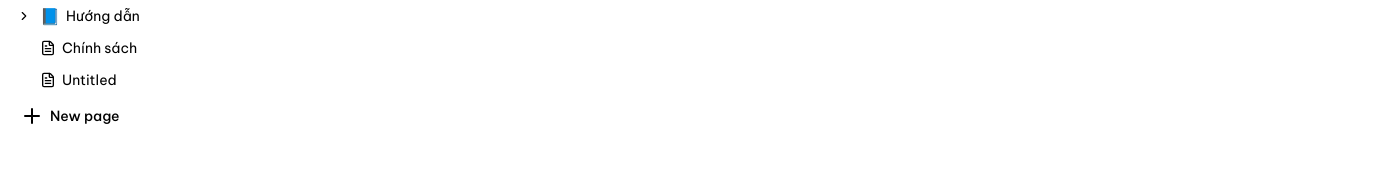
it: PageTree › rolls a refused move back and shows the translated error
The image size is (1390, 173).
Check: the list is shown, box [17,6,140,89]
Type keys "{Alt>}{Shift>}{ArrowUp}{/Shift}{/Alt}"
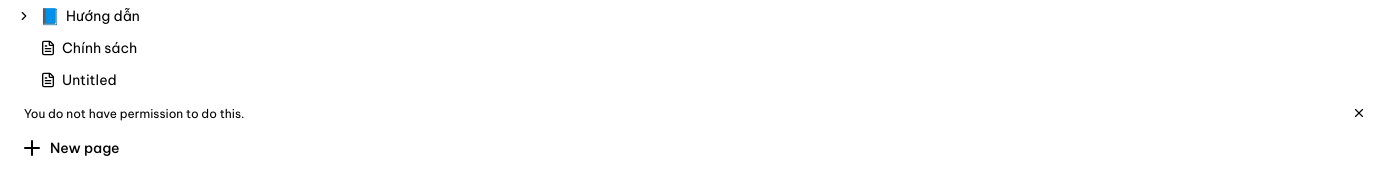
Check: the message reads "You do not have permission to do this.", box [24,106,244,121]
Click the button named "Dismiss": (1359,113) [1352,106,1366,120]
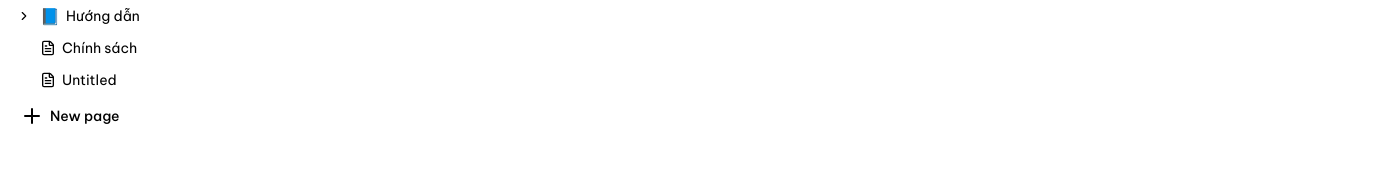
Check: the message "You do not have permission to do this." is gone
